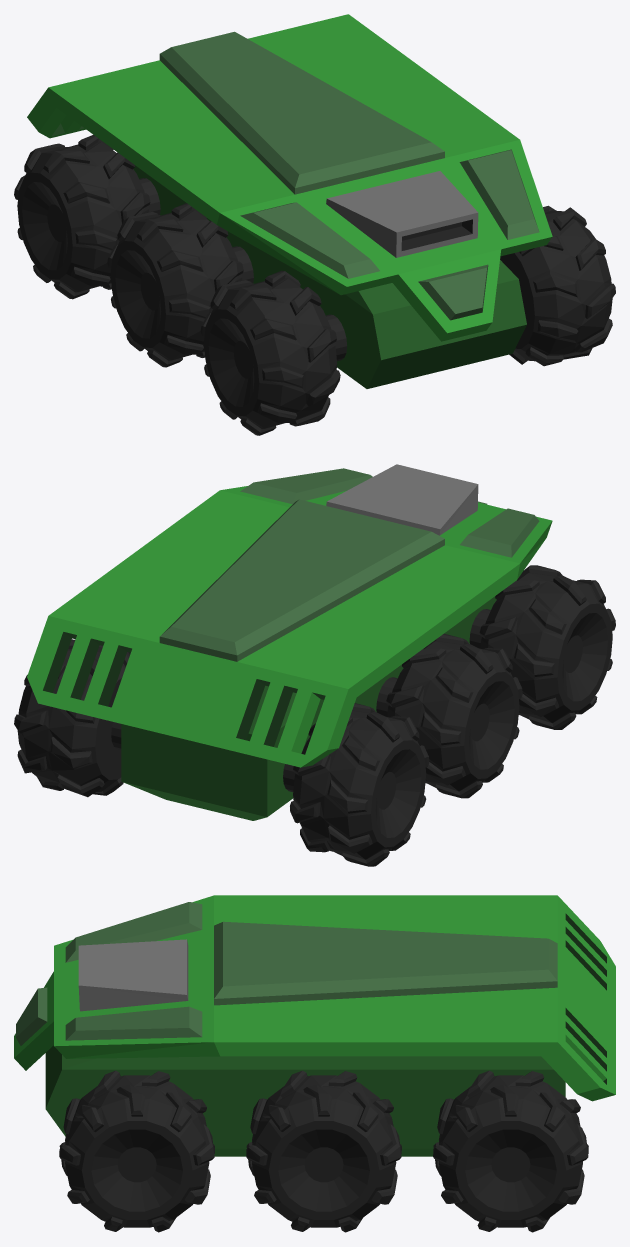
The model's file is 6-wheels_base.fbx.
3 views of the same model, one above another, from view 1: azimuth 30°, elevation 25°; view 2: azimuth 150°, elevation 25°; view 3: azimuth 270°, elevation 25° (orthographic).
Visible parts, largest first — view 1: Cube.085, Cylinder.063, Cube.084; view 2: Cube.085, Cylinder.063, Cube.084; view 3: Cube.085, Cylinder.063, Cube.084.
Part boxes in pixels (x1,y1,x2,y2): Cube.085: (27, 14, 552, 341); Cylinder.063: (14, 135, 615, 435); Cube.084: (133, 165, 526, 388); Cube.085: (27, 464, 552, 767); Cylinder.063: (14, 565, 615, 866); Cube.084: (121, 580, 516, 820); Cube.085: (14, 895, 615, 1101); Cylinder.063: (59, 1070, 588, 1232); Cube.084: (45, 1045, 565, 1156).
Size of the model in its own units: 146 by 78.97 by 215.
